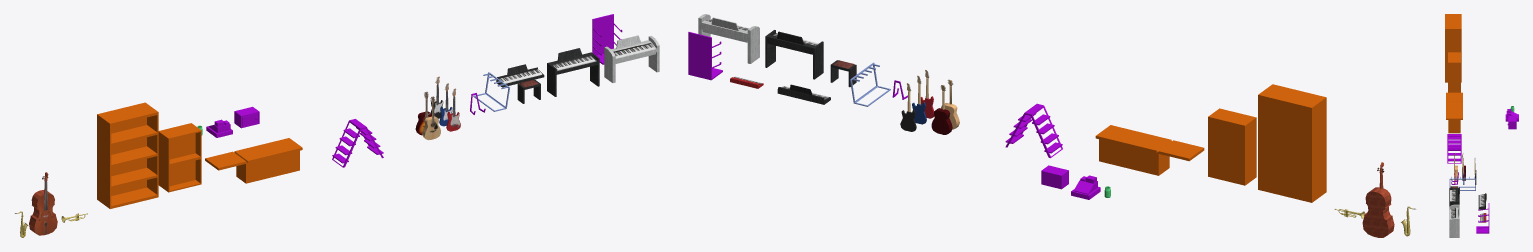
File: Furniture.fbx
3 views of the same model, side by side, from view 1: azimuth 30°, elevation 25°; view 2: azimuth 150°, elevation 25°; view 3: azimuth 270°, elevation 25° (orthographic). The views are drawn at different scales.
Parts seen in each view (by area): view 1: cabinet_large.002, cabinet_small.002, front_desk.001, piano_style2.002, piano_style1.002, cello, step_ladder.002, keyboard_stand.002, keyboard_large.002, safe.002, acoustic_guitar.004, stool.002 (+2 smaller); view 2: cabinet_large.002, cabinet_small.002, front_desk.001, cello, piano_style2.002, piano_style1.002, keyboard_stand.002, step_ladder.002, keyboard_large.002, safe.002, acoustic_guitar.003, register.002 (+3 smaller); view 3: cabinet_large.002, front_desk.001, cabinet_small.002, step_ladder.002, piano_style2.002, keyboard_stand.002, piano_style1.002, Plane.002, keyboard_large.002, safe.002, register.002, acoustic_guitar.003 (+3 smaller).
Part boxes in pixels (x1,y1,x2,y2): cabinet_large.002: (97,102,158,208); cabinet_small.002: (158,123,201,192); front_desk.001: (205,138,302,183); piano_style2.002: (604,35,659,82); piano_style1.002: (547,48,599,96); cello: (29,172,57,235); step_ladder.002: (332,119,383,167); keyboard_stand.002: (592,14,622,64); keyboard_large.002: (496,64,544,87); safe.002: (234,106,259,128); acoustic_guitar.004: (422,96,440,140); stool.002: (517,79,540,103); cabinet_large.002: (1258,84,1326,202); cabinet_small.002: (1208,108,1256,185); front_desk.001: (1095,125,1204,175); cello: (1362,162,1394,237); piano_style2.002: (698,14,759,63); piano_style1.002: (765,30,823,79); keyboard_stand.002: (688,32,722,80); step_ladder.002: (1005,103,1062,158); keyboard_large.002: (777,84,830,104); safe.002: (1041,165,1068,189); acoustic_guitar.003: (931,85,952,134); register.002: (1071,175,1100,199); cabinet_large.002: (1445,14,1461,82); front_desk.001: (1446,92,1462,133); cabinet_small.002: (1448,52,1460,92); step_ladder.002: (1447,134,1461,163); piano_style2.002: (1449,204,1459,237); keyboard_stand.002: (1476,203,1489,233); piano_style1.002: (1449,187,1459,206); Plane.002: (1449,176,1475,190); keyboard_large.002: (1478,193,1486,209); safe.002: (1507,116,1516,129); register.002: (1505,109,1518,121); acoustic_guitar.003: (1462,153,1465,180).
Bounding box in the file's own units: 2929 × 448 × 463.
